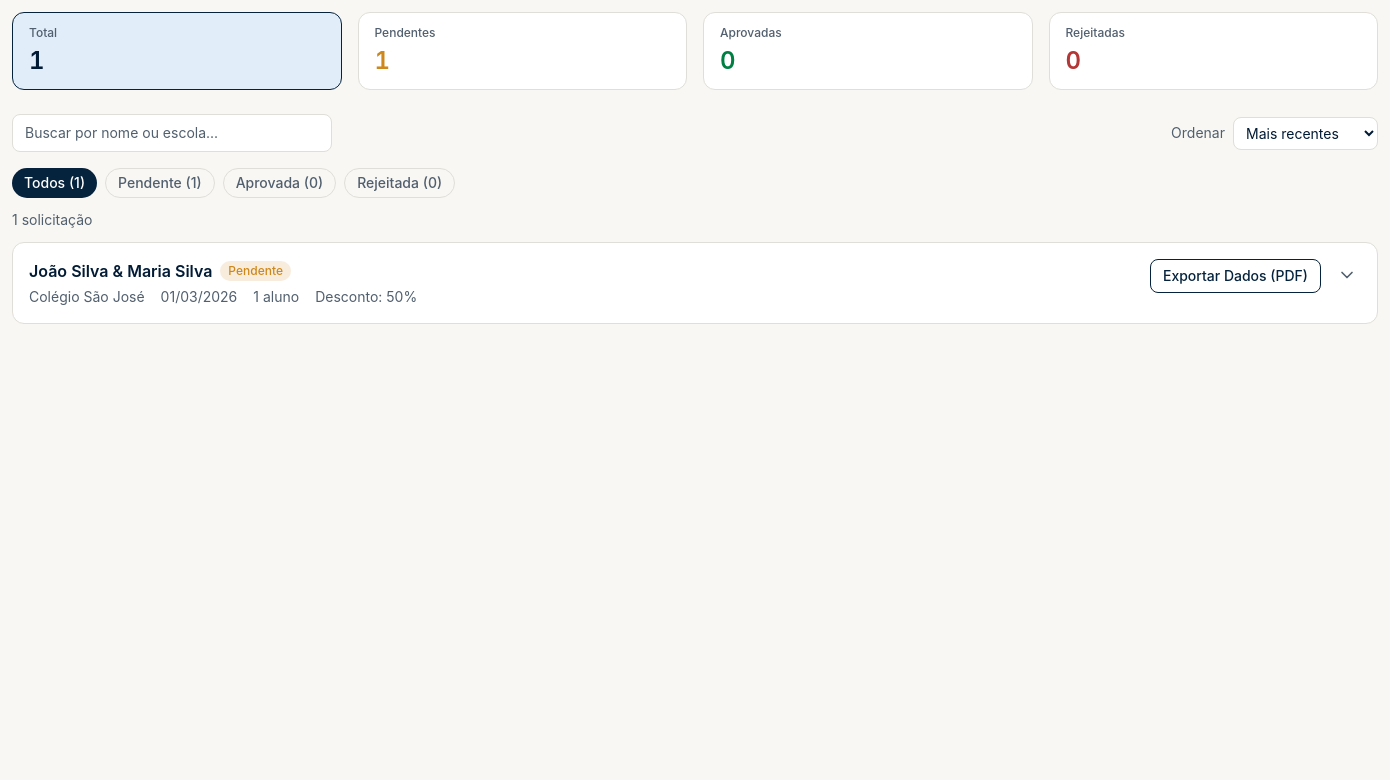
Test: SolicitacoesClient › approve form validates discount 0-100
Click the button with test id "card-toggle" at (69, 271), box [29,259,1138,307]
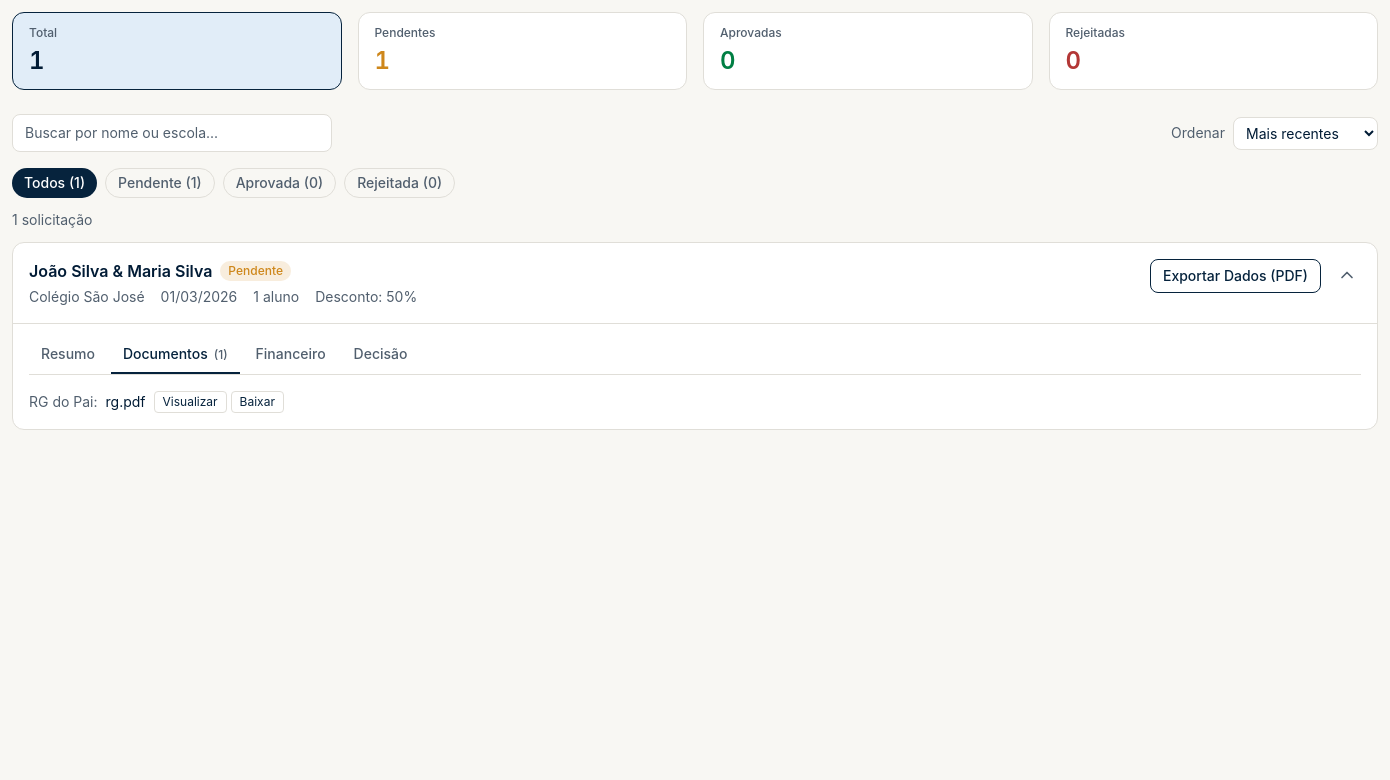
Click the tab with test id "detail-tab-decisao" at (381, 355), box [342,336,420,374]
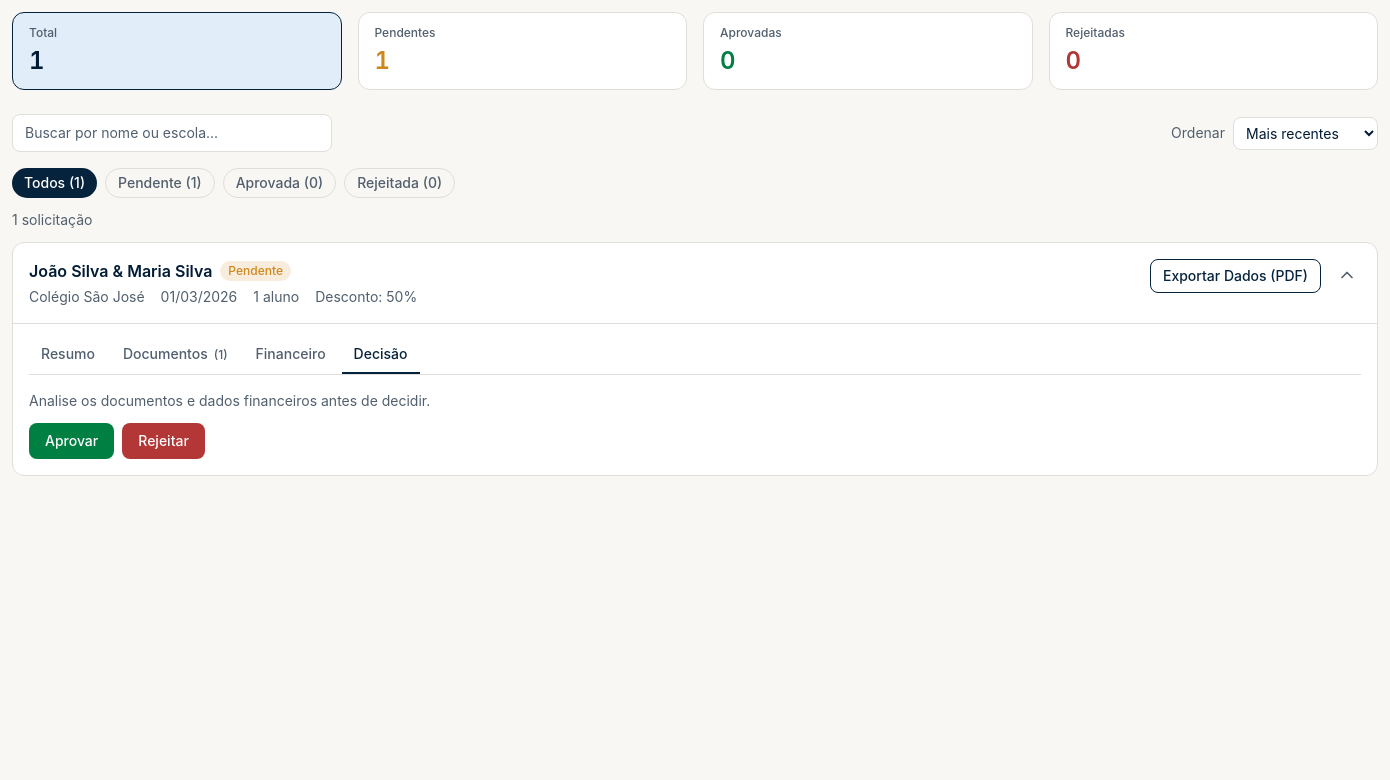
Click the button with test id "approve-trigger" at (72, 441), box [29,423,114,459]
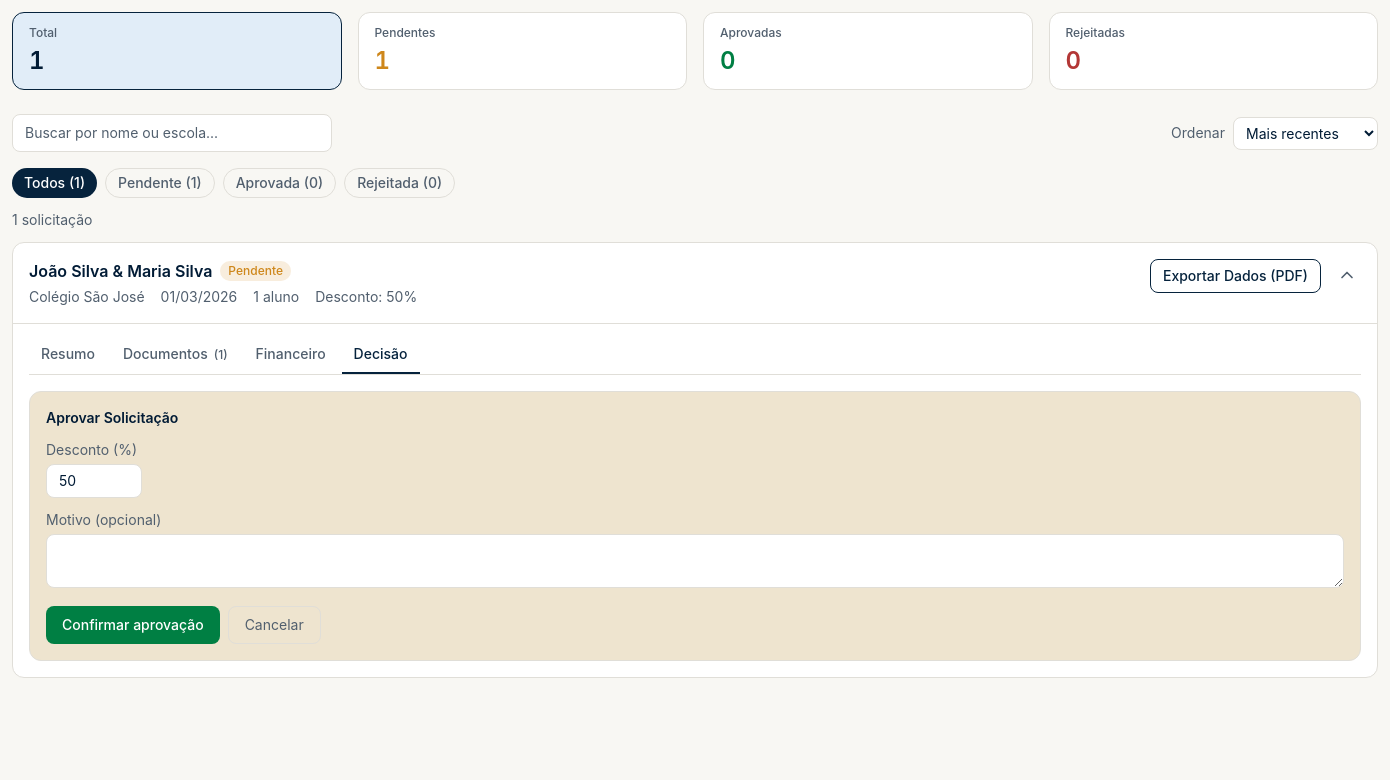
Replace the text in the number field with test id "discount-input" with "150" at (94, 481), box [46,464,142,498]
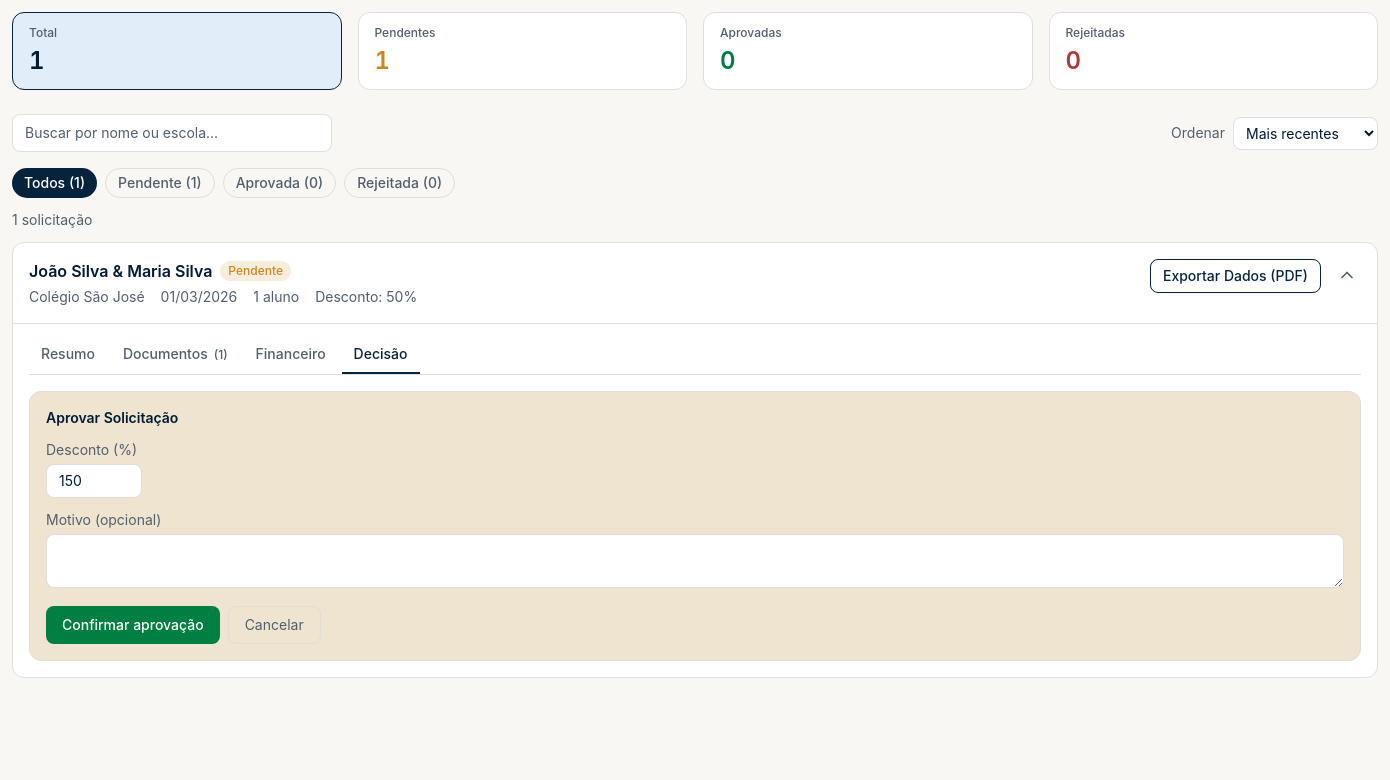
Click the button with test id "confirm-decision" at (133, 625), box [46,606,220,644]
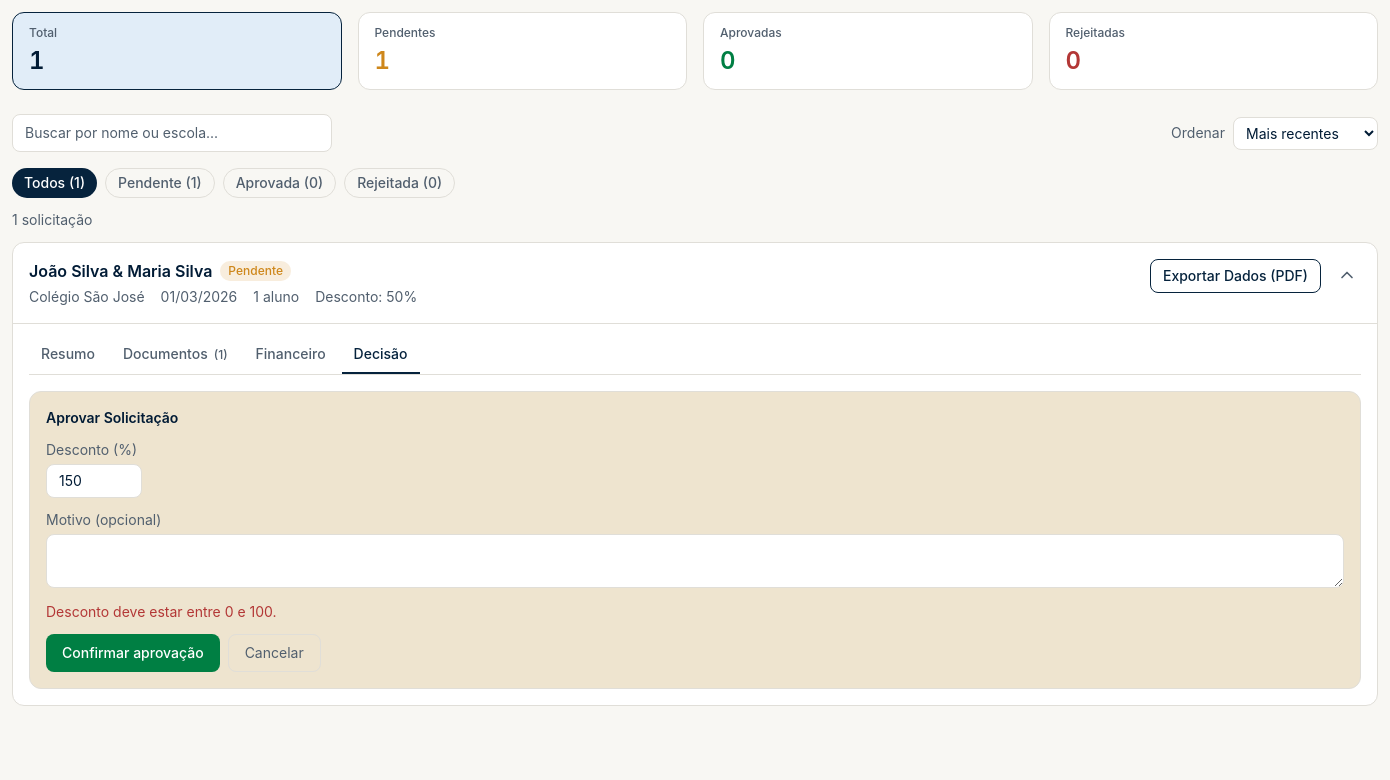
expect the text with test id "decision-error" shows "Desconto deve estar entre 0 e 100": met, box [46,603,277,620]
